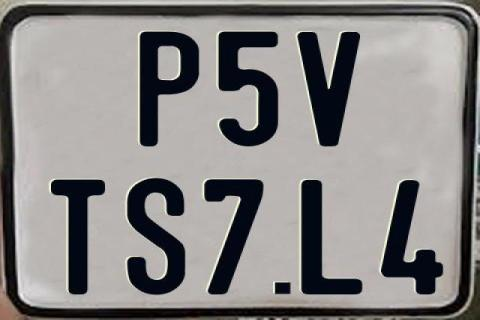0: (380, 177, 446, 297), (204, 178, 266, 296), (216, 31, 279, 146)
L: (301, 179, 365, 296)
P: (139, 29, 201, 145)
S: (126, 176, 187, 298)
T: (48, 178, 105, 296)
V: (298, 32, 360, 150)
